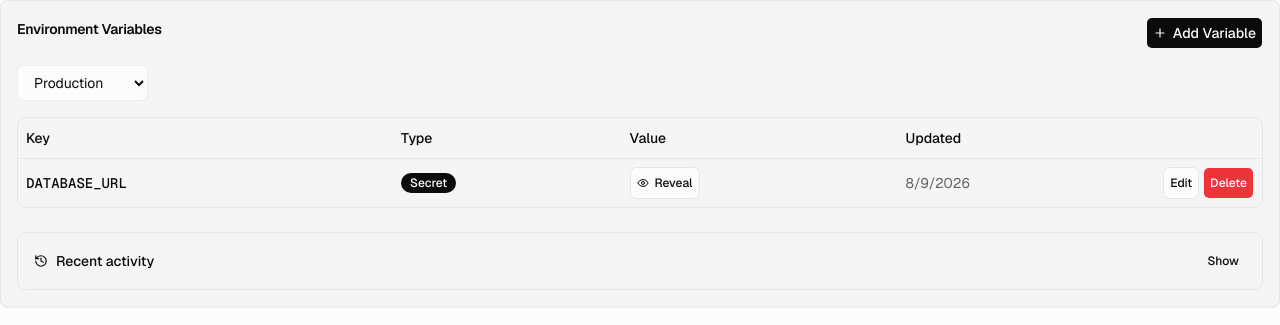
it: EnvironmentVariablesManager › reveals a secret only through the audited reveal endpoint
Expected: the text "DATABASE_URL" is shown, [18,158,393,206]
Expected: the text "postgres://hunter2" is not shown
Click the button with aria-label "Reveal value of DATABASE_URL". click: click(664, 182)
box: [630,166,700,198]
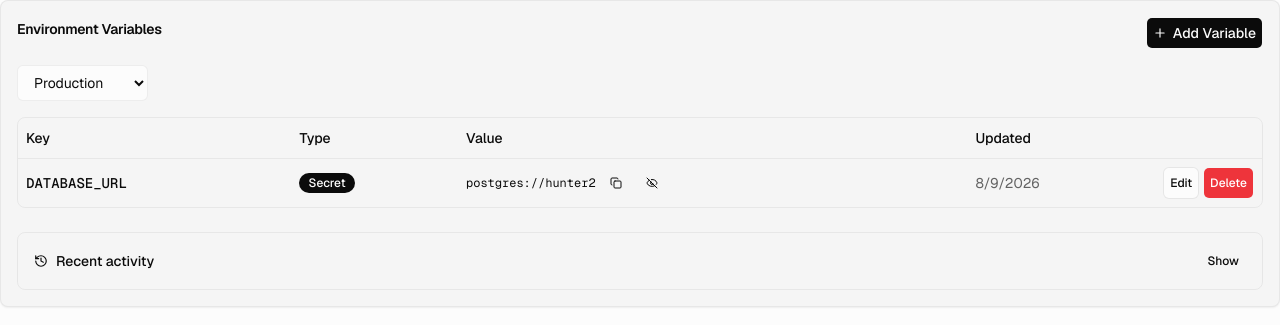
Expected: the text "postgres://hunter2" is shown, [466,174,596,190]
